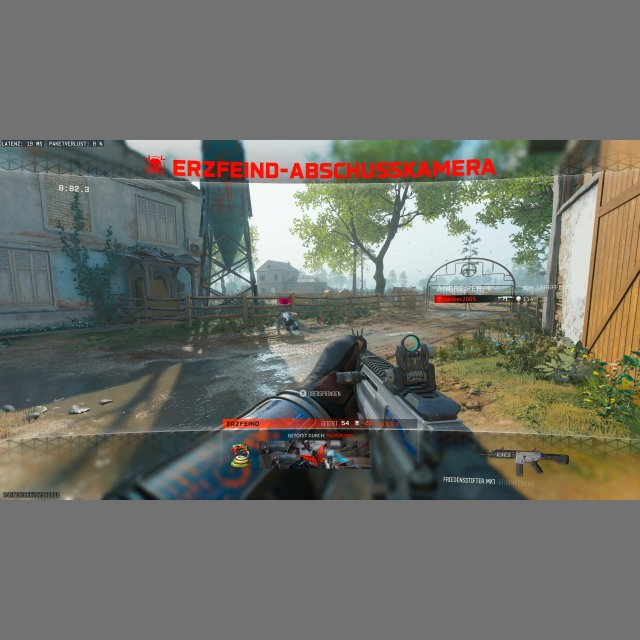player: (278, 310, 301, 336)
